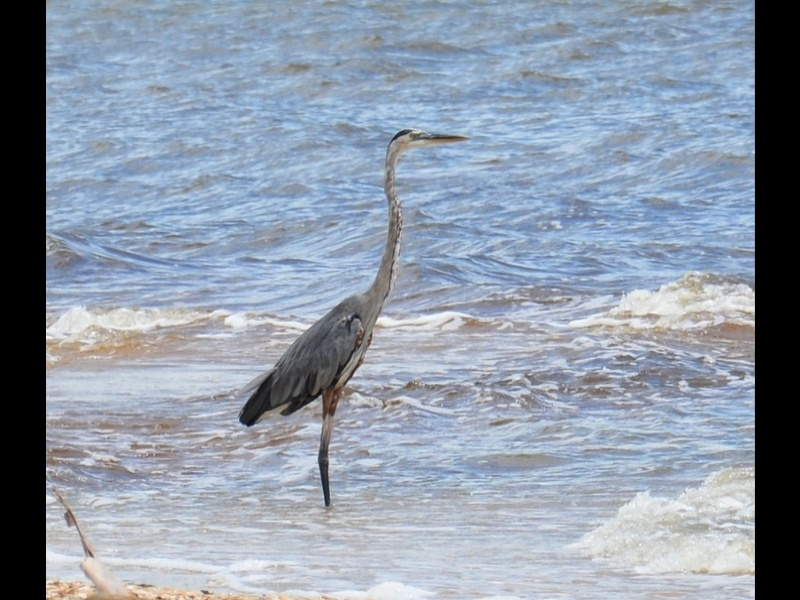heron: (241, 126, 472, 511)
